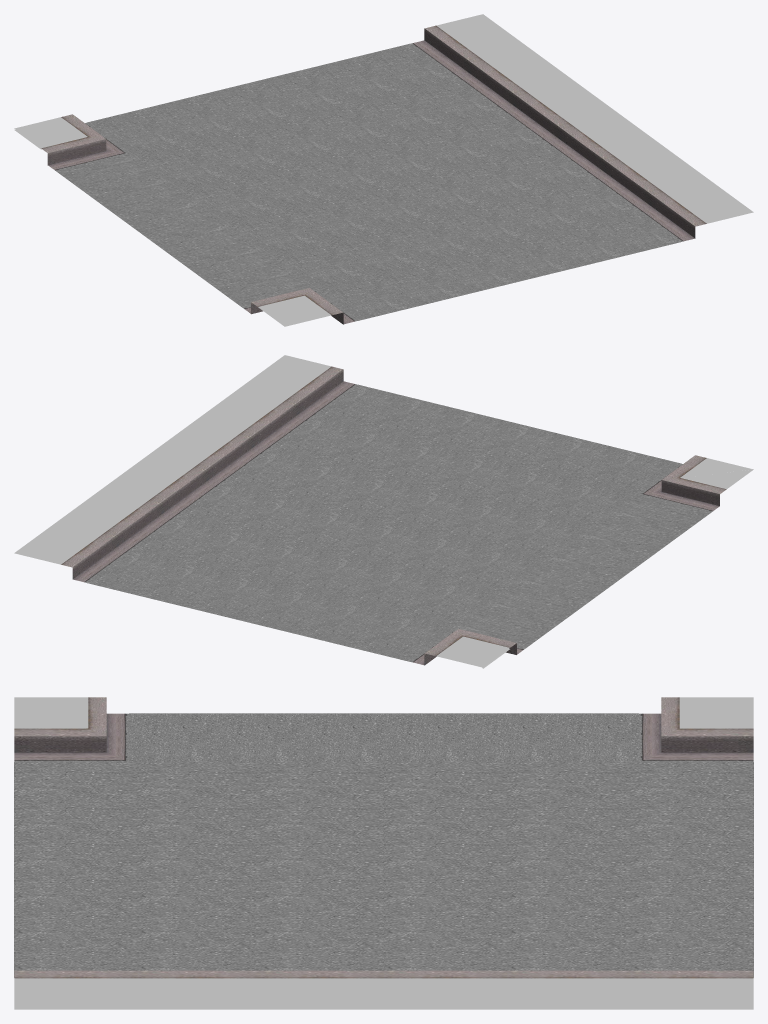
File: roada4.dae
The picture shows the model from 3 angles, top to bottom: view 1: azimuth 30°, elevation 25°; view 2: azimuth 150°, elevation 25°; view 3: azimuth 270°, elevation 25°; orthographic projection. The views are drawn at different scales.
Parts seen in each view (by area): view 1: S_Object_001_5, S_Object_001, S_Object_001_1, S_Object_001_2, S_Object_001_3, S_Object_001_4; view 2: S_Object_001_5, S_Object_001, S_Object_001_1, S_Object_001_2, S_Object_001_3, S_Object_001_4; view 3: S_Object_001_5, S_Object_001, S_Object_001_1, S_Object_001_3, S_Object_001_2, S_Object_001_4.
Boxes of the visible parts, x1,y1,x2,y2 form: S_Object_001_5: [56, 43, 680, 320]; S_Object_001: [14, 14, 753, 326]; S_Object_001_1: [41, 25, 706, 315]; S_Object_001_2: [47, 28, 695, 324]; S_Object_001_3: [48, 40, 694, 324]; S_Object_001_4: [85, 43, 683, 321]; S_Object_001_5: [87, 384, 711, 661]; S_Object_001: [14, 355, 753, 668]; S_Object_001_1: [61, 366, 726, 655]; S_Object_001_2: [72, 369, 719, 665]; S_Object_001_3: [73, 381, 719, 664]; S_Object_001_4: [85, 384, 712, 662]; S_Object_001_5: [14, 713, 753, 977]; S_Object_001: [14, 697, 753, 1009]; S_Object_001_1: [14, 697, 753, 978]; S_Object_001_3: [14, 713, 753, 760]; S_Object_001_2: [14, 736, 753, 752]; S_Object_001_4: [14, 713, 753, 761].
Bounding box in the file's own units: 2 × 2 × 0.05.
